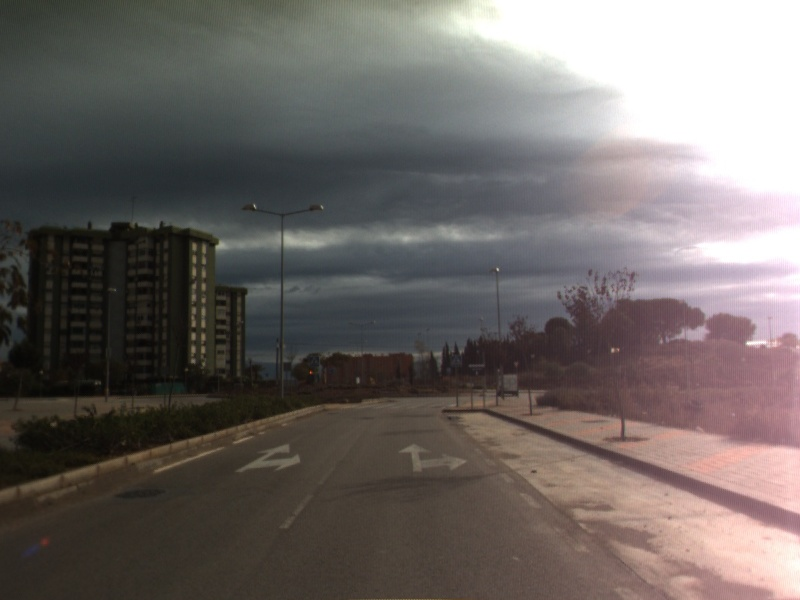STRAIGHT_RIGHT: (396, 441, 470, 474), (232, 441, 303, 474)
